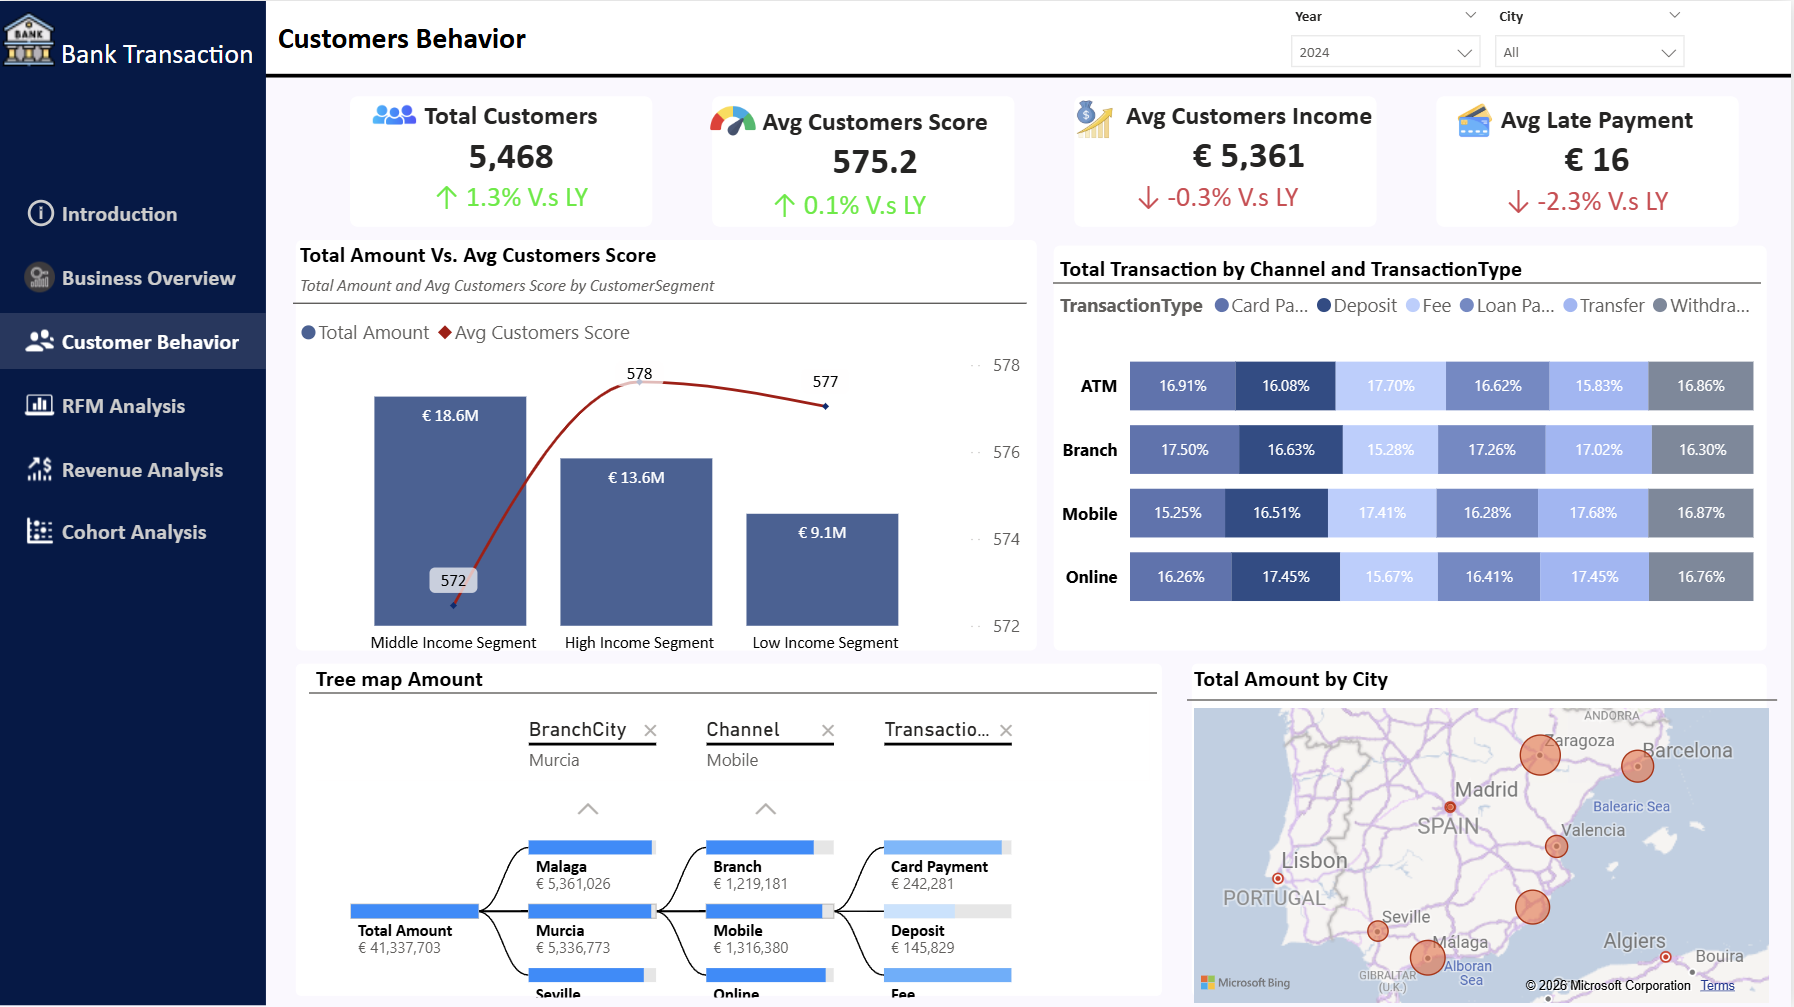

The dashboard page shown, as its layout file describes it:
{"tool":"powerbi","page":{"name":"Customers Behavior","canvas":[1280,720],"ordinal":2},"visuals":[{"type":"slicer","title":"year","fields":{"Values":["Dim_date.Year"]},"box":[913.3,4,155.5,46.4],"z":0,"group":"g13"},{"type":"group","id":"g1","title":"Card Avg LP","box":[1026.7,66.7,224,91],"z":0,"group":"g11"},{"type":"card","title":"Avg Customers Income","fields":{"Values":["Measure.Avg Customer Income"]},"box":[783.7,69.4,217.3,56],"z":0,"group":"g4"},{"type":"card","title":"Total Customers","fields":{"Values":["Measure.Total Customers"]},"box":[256.9,69.6,217.3,56.4],"z":0,"group":"g8"},{"type":"card","title":"Avg Late Payment","fields":{"Values":["Measure.Avg Late Payment"]},"box":[1033.4,72,217.3,56],"z":0,"group":"g1"},{"type":"card","title":"Avg Customers Score","fields":{"Values":["Measure.Avg Customers Score"]},"box":[518.1,74.7,217.3,56],"z":0,"group":"g6"},{"type":"actionButton","title":"Customer Behavior active Button","box":[0,223.4,190.7,40],"z":0,"group":"g7"},{"type":"group","id":"g2","title":"Cohort Button","box":[0,359.8,190.7,40],"z":250,"group":"g12"},{"type":"group","id":"g3","title":"Revenue Button","box":[0,314.3,190.7,40],"z":500,"group":"g12"},{"type":"slicer","title":"city","fields":{"Values":["Dim_location.BranchCity"]},"box":[1058.8,4,155.5,46.4],"z":1000,"group":"g13"},{"type":"group","id":"g4","title":"Card Avg Income","box":[761,65.4,240,89.7],"z":1000,"group":"g11"},{"type":"card","fields":{"Values":["Measure.YOY Customers growth"]},"box":[256.9,126,217.3,29.1],"z":1000,"group":"g8"},{"type":"card","fields":{"Values":["Measure.YOY Income growth"]},"box":[761,126,217.3,29.1],"z":1000,"group":"g4"},{"type":"card","fields":{"Values":["Measure.YOY LP growth"]},"box":[1026.7,128.6,217.3,29.1],"z":1000,"group":"g1"},{"type":"card","fields":{"Values":["Measure.YOY Score growth"]},"box":[499,131.3,217.3,29.1],"z":1000,"group":"g6"},{"type":"actionButton","title":"Introduction Button","box":[0,132,192,40],"z":1000,"group":"g10"},{"type":"actionButton","title":"Business Overview Button","box":[0,177.4,191.8,40],"z":1000,"group":"g9"},{"type":"group","id":"g5","title":"RFM Button","box":[0,268.9,190.7,40],"z":1000,"group":"g12"},{"type":"actionButton","title":"RFM Button","box":[0,268.9,190.7,40],"z":1000,"group":"g5"},{"type":"actionButton","title":"Revenue Button","box":[0,314.3,190.7,40],"z":1000,"group":"g3"},{"type":"actionButton","title":"Cohort Button","box":[0,359.8,190.7,40],"z":1000,"group":"g2"},{"type":"image","box":[256,58.7,53.6,45.5],"z":2000,"group":"g8"},{"type":"group","id":"g6","title":"Card Avg Score","box":[499,64,236.4,96.4],"z":2000,"group":"g11"},{"type":"image","box":[500.8,64,48,42.7],"z":2000,"group":"g6"},{"type":"image","box":[761.3,65.4,42.7,37.3],"z":2000,"group":"g4"},{"type":"image","box":[1026.7,66.7,57.3,36],"z":2000,"group":"g1"},{"type":"group","id":"g7","title":"Customers Behavior Button","box":[0,223.4,190.7,40],"z":2000,"group":"g12"},{"type":"group","id":"g8","title":"Card Customers","box":[256,58.7,217.3,97.3],"z":3000,"group":"g11"},{"type":"group","id":"g9","title":"Business Overview Button","box":[0,177.4,191.8,40.5],"z":3000,"group":"g12"},{"type":"map","title":"Total Amount by City","fields":{"Category":["Dim_location.BranchCity"],"Y":["Avg(Dim_location.BranchLat)"],"X":["Avg(Dim_location.BranchLong)"],"Size":["Measure.Total Amount"]},"box":[848,474.7,421.3,245.3],"z":3000},{"type":"group","id":"g10","title":"Introduction Button","box":[0,132,192,40],"z":4000,"group":"g12"},{"type":"decompositionTreeVisual","title":"Tree map Amount","fields":{"Analyze":["Measure.Total Amount"],"ExplainBy":["Fact_transaction.BranchCity","Fact_transaction.Channel","Fact_transaction.TransactionType"]},"box":[221.3,474.7,605.3,241.3],"z":4000},{"type":"hundredPercentStackedBarChart","fields":{"Category":["Fact_transaction.Channel"],"Y":["Measure.Total Transaction"],"Series":["Fact_transaction.TransactionType"]},"box":[753.3,181.3,505.3,270.7],"z":5000},{"type":"lineClusteredColumnComboChart","title":"Total Amount Vs. Avg Customers Score","fields":{"Category":["Fact_transaction.CustomerSegment"],"Y":["Measure.Total Amount"],"Y2":["Measure.Avg Customers Score"]},"box":[210.7,172,524,302.7],"z":6000},{"type":"group","id":"g11","title":"Card","box":[256,58.7,994.7,101.7],"z":6125},{"type":"group","id":"g12","title":"Navigation","box":[0,132,192,267.8],"z":6250},{"type":"group","id":"g13","title":"Slicer","box":[913.3,4,301.3,46.7],"z":6500}]}

Visuals, with their boxes on the page's 1280x720 design canvas (x1, y1, x2, y2). These are canvas units, not pixel positions in the 1794x1007 screenshot, which may show the page scaled, cropped or inside an application window:
"year" slicer: bbox(913, 4, 1069, 50)
"Card Avg LP" group: bbox(1027, 67, 1251, 158)
"Avg Customers Income" card: bbox(784, 69, 1001, 125)
"Total Customers" card: bbox(257, 70, 474, 126)
"Avg Late Payment" card: bbox(1033, 72, 1251, 128)
"Avg Customers Score" card: bbox(518, 75, 735, 131)
"Customer Behavior active Button" actionButton: bbox(0, 223, 191, 263)
"Cohort Button" group: bbox(0, 360, 191, 400)
"Revenue Button" group: bbox(0, 314, 191, 354)
"city" slicer: bbox(1059, 4, 1214, 50)
"Card Avg Income" group: bbox(761, 65, 1001, 155)
card - Measure.YOY Customers growth: bbox(257, 126, 474, 155)
card - Measure.YOY Income growth: bbox(761, 126, 978, 155)
card - Measure.YOY LP growth: bbox(1027, 129, 1244, 158)
card - Measure.YOY Score growth: bbox(499, 131, 716, 160)
"Introduction Button" actionButton: bbox(0, 132, 192, 172)
"Business Overview Button" actionButton: bbox(0, 177, 192, 217)
"RFM Button" group: bbox(0, 269, 191, 309)
"RFM Button" actionButton: bbox(0, 269, 191, 309)
"Revenue Button" actionButton: bbox(0, 314, 191, 354)
"Cohort Button" actionButton: bbox(0, 360, 191, 400)
image: bbox(256, 59, 310, 104)
"Card Avg Score" group: bbox(499, 64, 735, 160)
image: bbox(501, 64, 549, 107)
image: bbox(761, 65, 804, 103)
image: bbox(1027, 67, 1084, 103)
"Customers Behavior Button" group: bbox(0, 223, 191, 263)
"Card Customers" group: bbox(256, 59, 473, 156)
"Business Overview Button" group: bbox(0, 177, 192, 218)
"Total Amount by City" map: bbox(848, 475, 1269, 720)
"Introduction Button" group: bbox(0, 132, 192, 172)
"Tree map Amount" decompositionTreeVisual: bbox(221, 475, 827, 716)
hundredPercentStackedBarChart - Fact_transaction.Channel x Measure.Total Transaction: bbox(753, 181, 1259, 452)
"Total Amount Vs. Avg Customers Score" lineClusteredColumnComboChart: bbox(211, 172, 735, 475)
"Card" group: bbox(256, 59, 1251, 160)
"Navigation" group: bbox(0, 132, 192, 400)
"Slicer" group: bbox(913, 4, 1215, 51)
